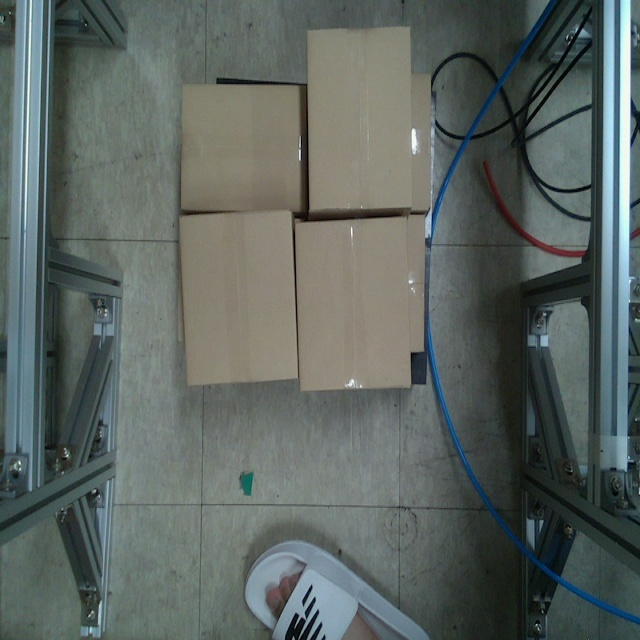box: (293, 214, 413, 395), (177, 214, 300, 388), (306, 22, 413, 211), (179, 79, 303, 213)
